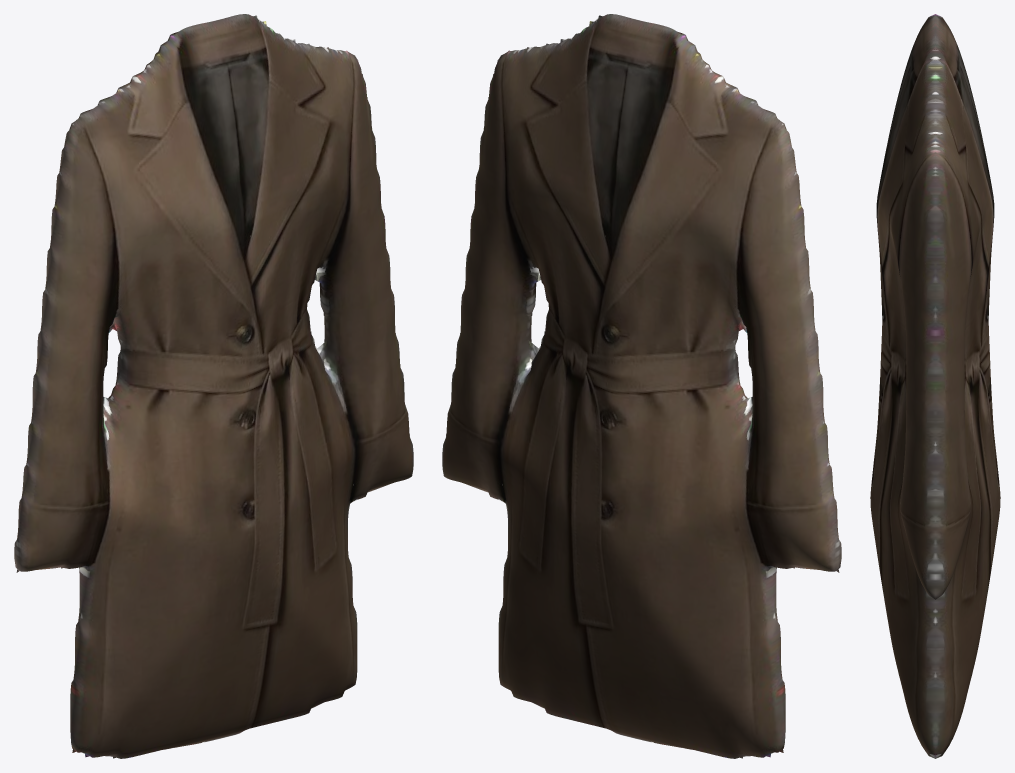
The model's file is prod-ae-camel-silk-wool-coat.glb.
The picture shows the model from 3 angles, left to right: view 1: azimuth 30°, elevation 25°; view 2: azimuth 150°, elevation 25°; view 3: azimuth 270°, elevation 25°; orthographic projection. The views are drawn at different scales.
Parts seen in each view (by area): view 1: prod-ae-camel-silk-wool-coat_standalone; view 2: prod-ae-camel-silk-wool-coat_standalone; view 3: prod-ae-camel-silk-wool-coat_standalone.
Boxes of the visible parts, x1,y1,x2,y2 form: prod-ae-camel-silk-wool-coat_standalone: (14, 14, 413, 758); prod-ae-camel-silk-wool-coat_standalone: (442, 14, 841, 758); prod-ae-camel-silk-wool-coat_standalone: (870, 14, 1000, 758).
Size of the model in its own units: 0.447 by 0.7789 by 0.1342.
Materials: 1 (1 with a texture image).
